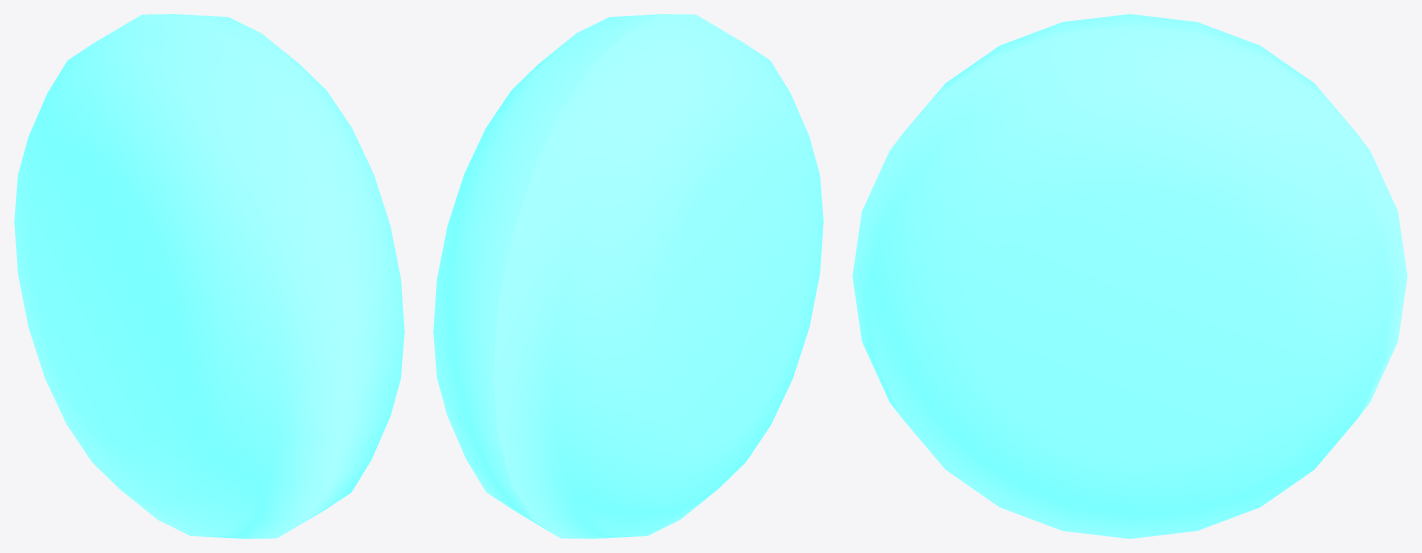
Rendered from SM_AGV_Button_HMI_2.fbx.
3 renders of one model, left to right at view 1: azimuth 30°, elevation 25°; view 2: azimuth 150°, elevation 25°; view 3: azimuth 270°, elevation 25°, orthographic. The views are drawn at different scales.
Visible parts, largest first — view 1: SM_AGV_Button_HMI_2.001; view 2: SM_AGV_Button_HMI_2.001; view 3: SM_AGV_Button_HMI_2.001.
Boxes of the visible parts, box(x1,y1,x2,y2) form: SM_AGV_Button_HMI_2.001: box(14, 14, 404, 538); SM_AGV_Button_HMI_2.001: box(433, 14, 823, 538); SM_AGV_Button_HMI_2.001: box(852, 14, 1407, 538).
Size of the model in its own units: 0.008 by 0.018 by 0.018.
